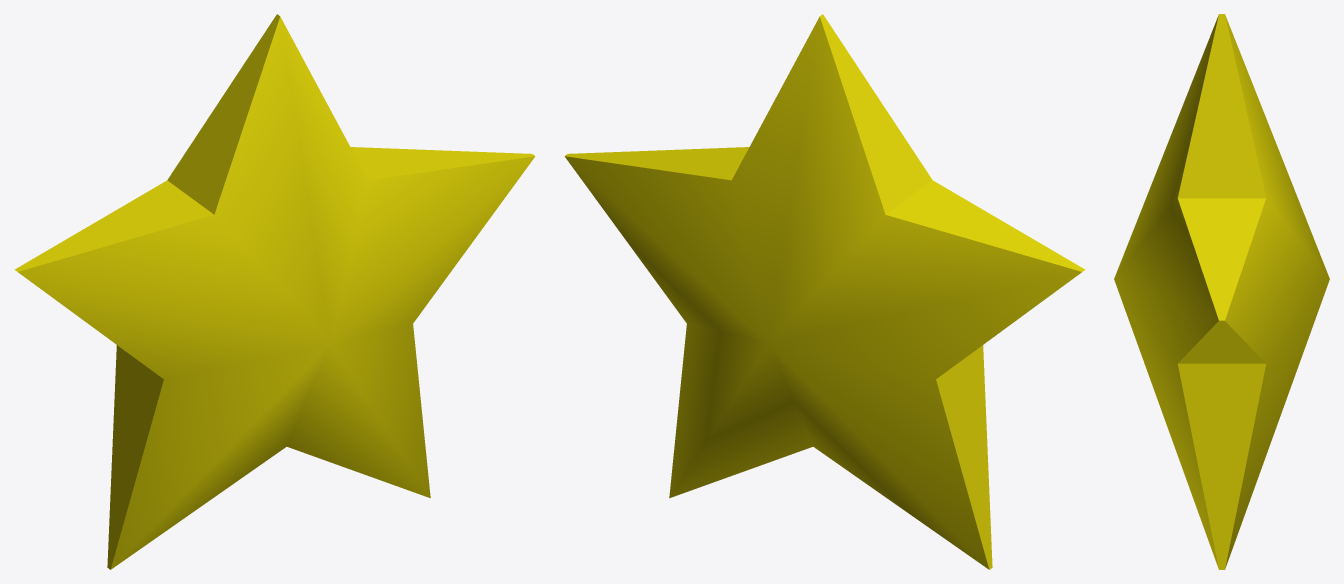
The model's file is star.fbx.
3 views of the same model, side by side, from view 1: azimuth 30°, elevation 25°; view 2: azimuth 150°, elevation 25°; view 3: azimuth 270°, elevation 25° (orthographic). The views are drawn at different scales.
Parts seen in each view (by area): view 1: pCylinder2; view 2: pCylinder2; view 3: pCylinder2.
Part boxes in pixels (x1,y1,x2,y2): pCylinder2: (14,14,535,569); pCylinder2: (564,14,1085,569); pCylinder2: (1114,14,1329,569).
Size of the model in its own units: 1.9 by 1.82 by 0.7315.
